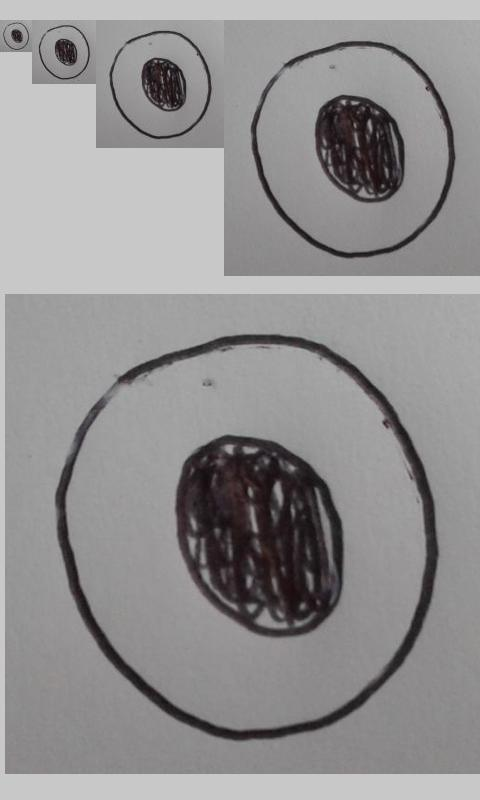radio_button: (51, 329, 442, 744), (248, 36, 459, 264), (109, 30, 214, 140), (38, 24, 91, 81), (2, 22, 30, 51)
